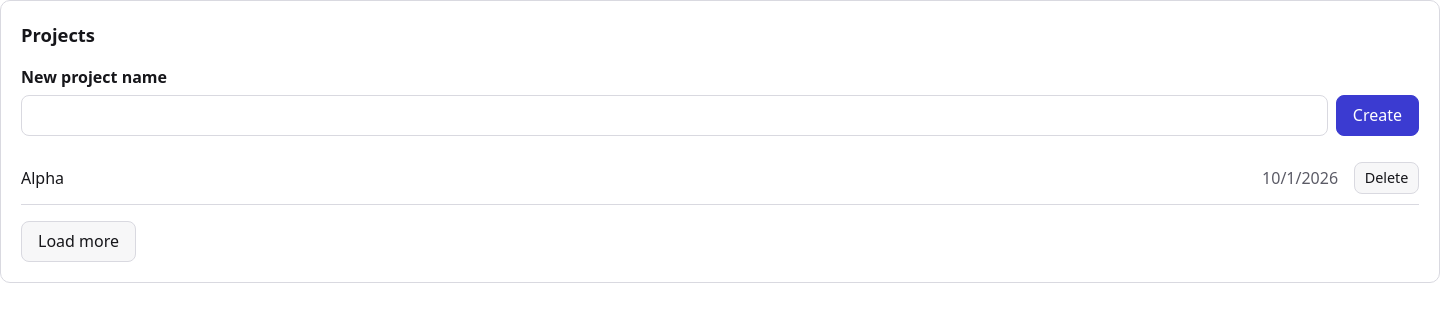
Scenario: projects panel errors (FE-10) › shows a rejected name next to the field
Expected: the text "Alpha" is shown, [21, 166, 64, 188]
In the field labelled "New project name": (674, 116) [21, 95, 1328, 136], type "Alpha"
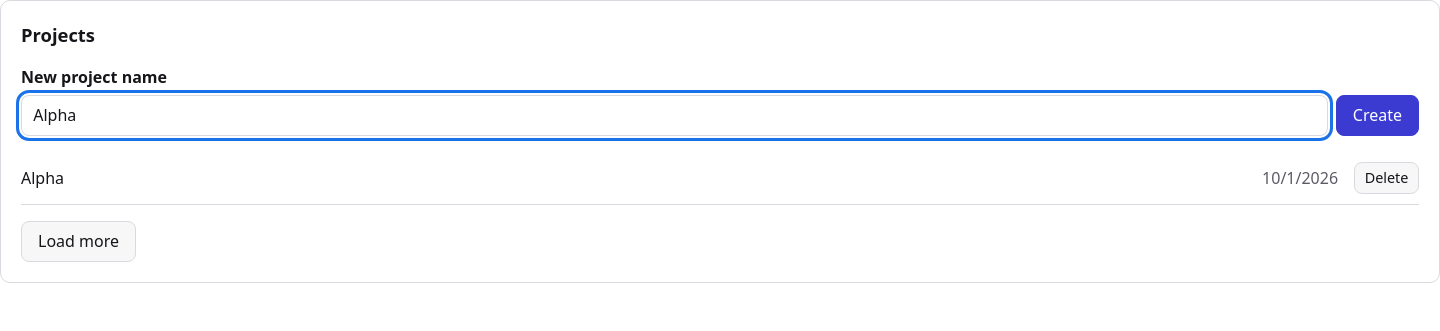
Click the button "Create": (1377, 116) [1336, 95, 1419, 136]
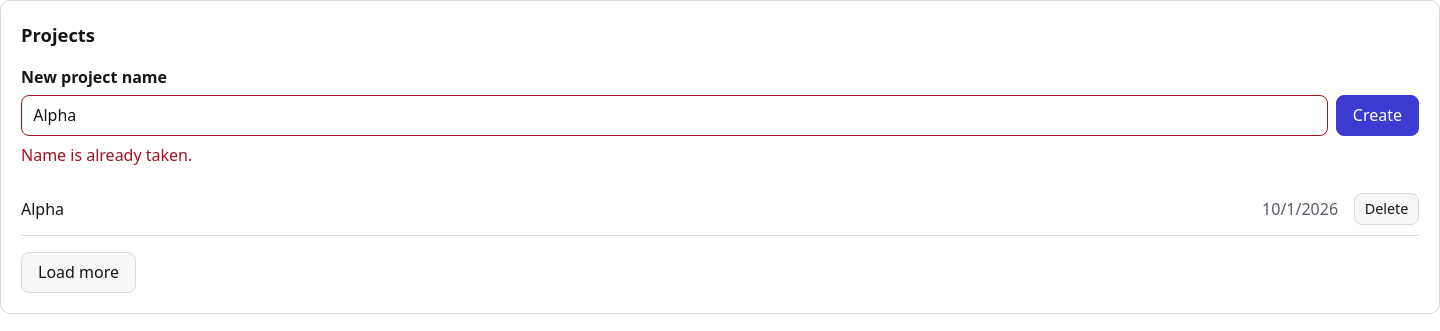
Expected: the text "Name is already taken." is shown, [21, 144, 192, 166]
